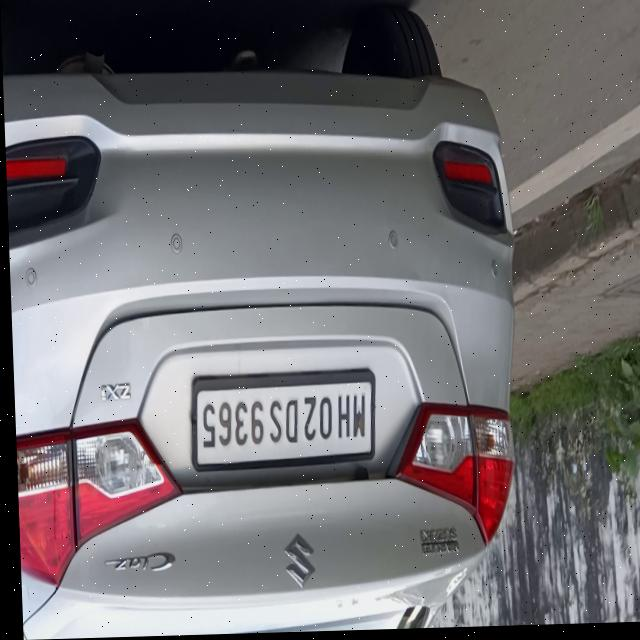plate: (186, 372, 375, 474)
